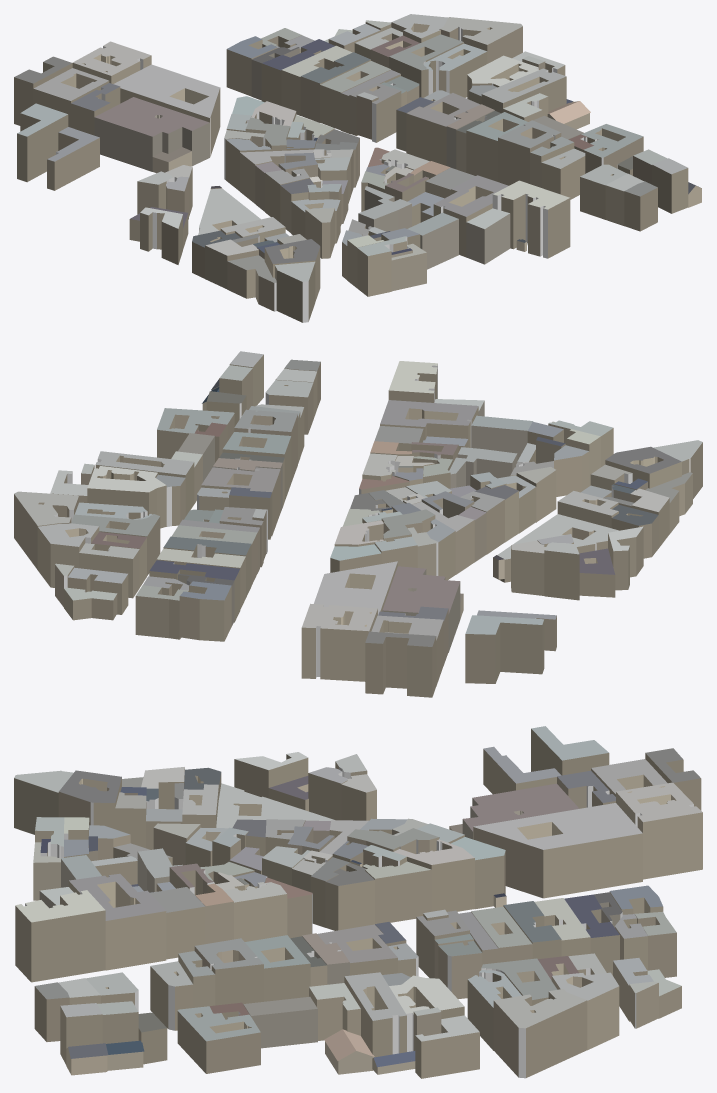
3 views of the same model, one above another, from view 1: azimuth 30°, elevation 25°; view 2: azimuth 150°, elevation 25°; view 3: azimuth 270°, elevation 25° (orthographic). The views are drawn at different scales.
Parts seen in each view (by area): view 1: tuile; view 2: tuile; view 3: tuile.
Part boxes in pixels (<box>): tuile: <box>14,14,701,322</box>; tuile: <box>14,351,702,697</box>; tuile: <box>14,726,702,1078</box>.
Size of the model in its own units: 277 by 29.01 by 272.
